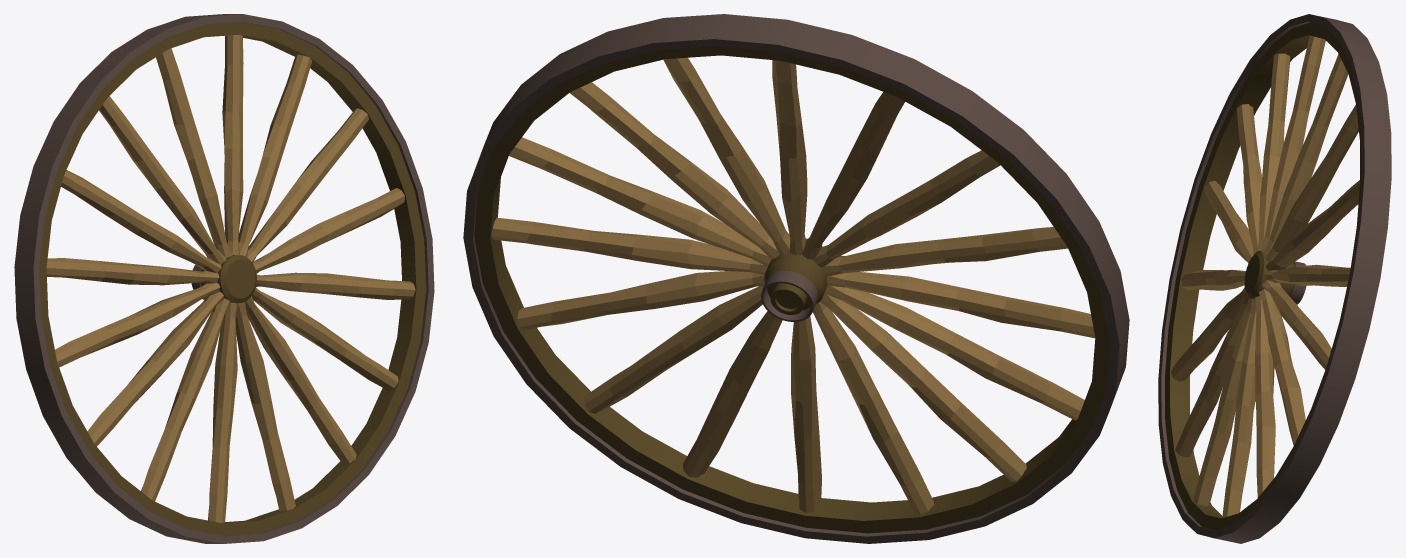
The model's file is Wheel.fbx.
3 renders of one model, left to right at view 1: azimuth 30°, elevation 25°; view 2: azimuth 150°, elevation 25°; view 3: azimuth 270°, elevation 25°, orthographic. The views are drawn at different scales.
Visible parts, largest first — view 1: Cylinder.013; view 2: Cylinder.013; view 3: Cylinder.013.
Boxes of the visible parts, <box> form: Cylinder.013: <box>14,14,434,543</box>; Cylinder.013: <box>463,14,1129,543</box>; Cylinder.013: <box>1158,14,1391,543</box>.
Bounding box in the file's own units: 164 × 160 × 72.59.
